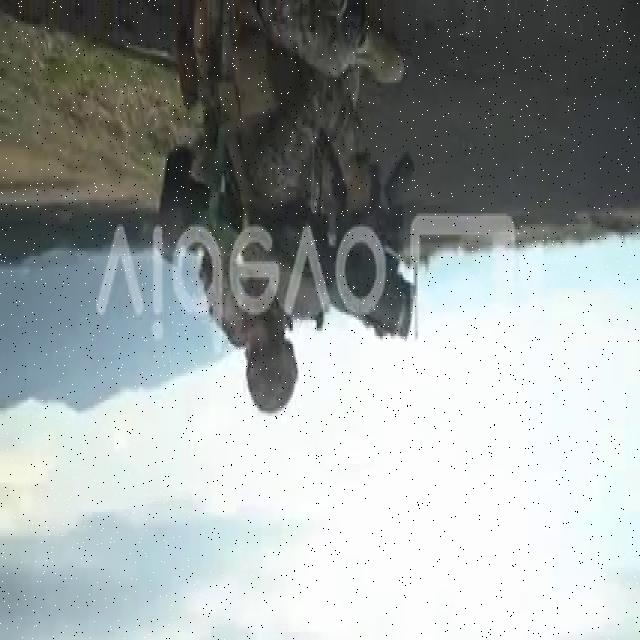bazooka: (155, 134, 420, 351)
